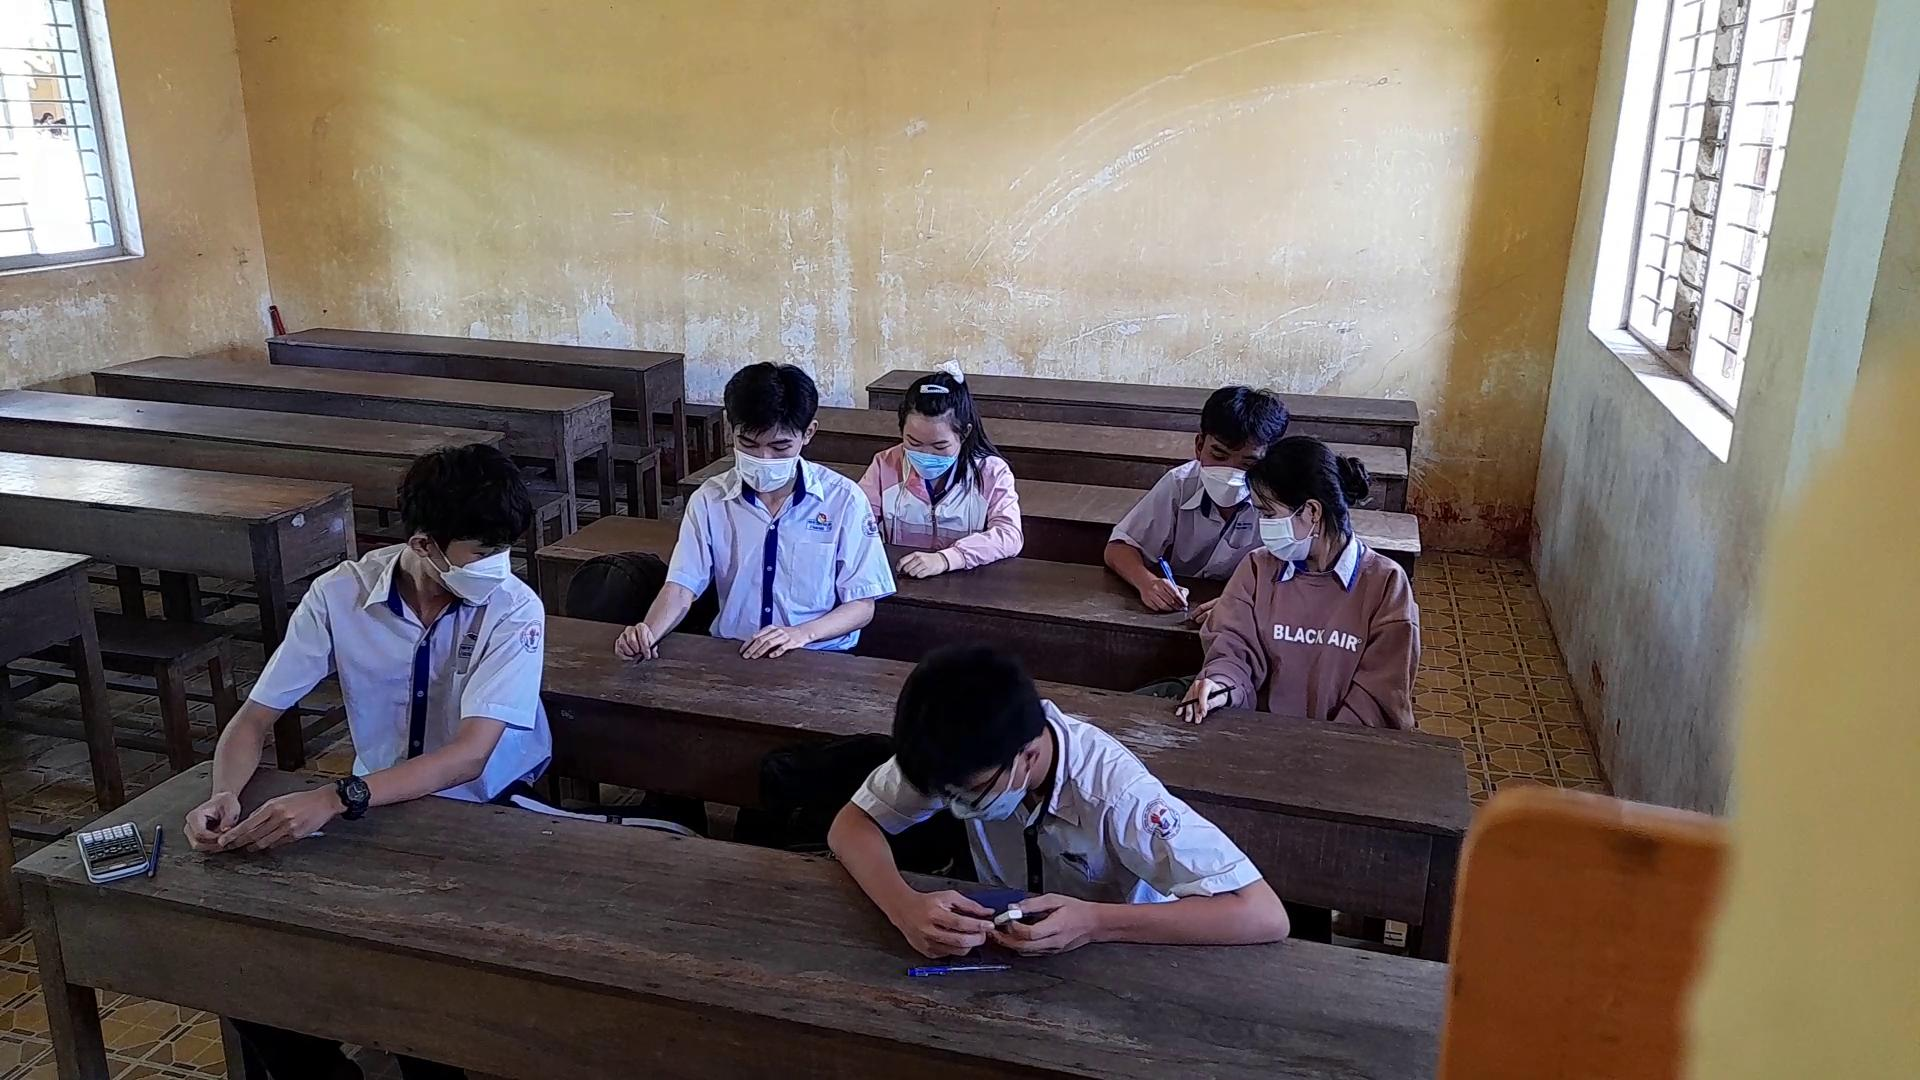Hand Under Table: (1337, 574, 1423, 731)
Look Around: (1244, 401, 1389, 576), (388, 436, 533, 611)
